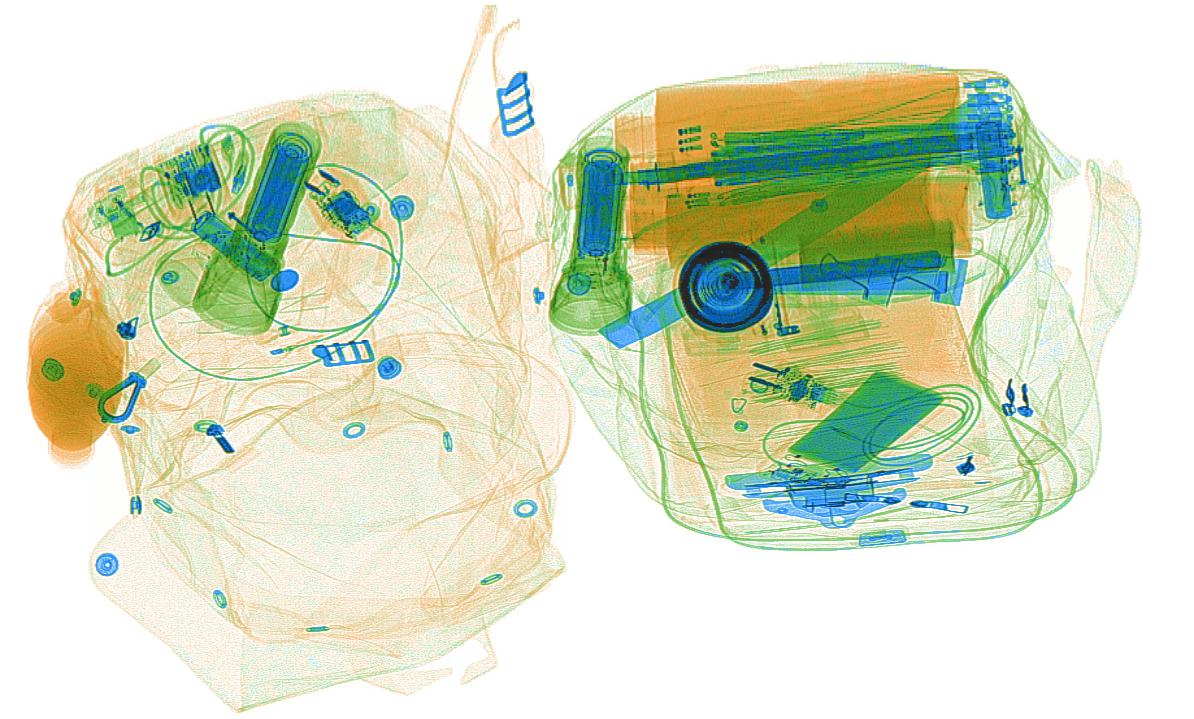battery: (190, 207, 284, 282), (246, 144, 304, 243), (573, 157, 617, 261), (974, 115, 1015, 217)
